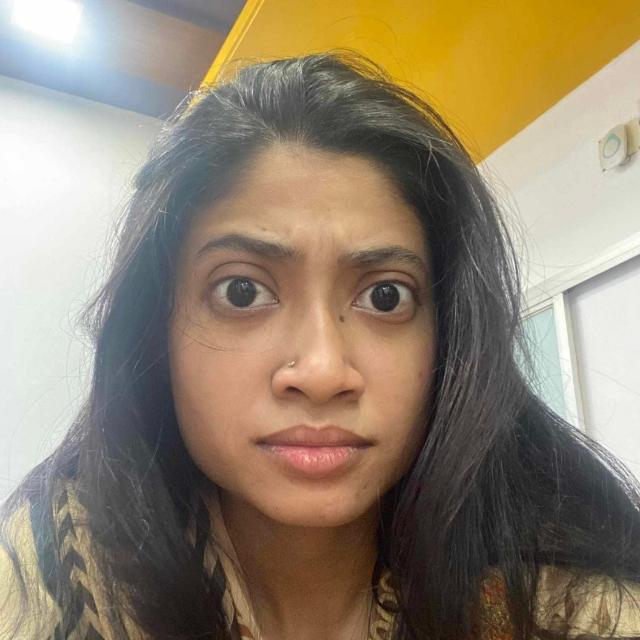Angry: (87, 82, 549, 585)
